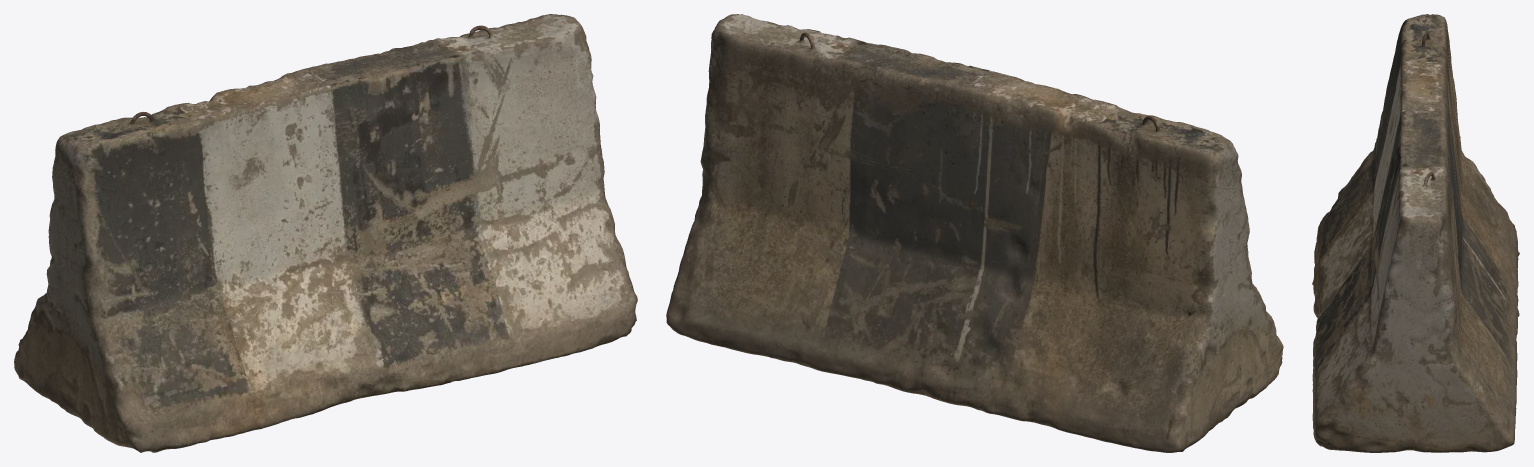
Rendered from concrete_road_barrier.glb.
3 renders of one model, left to right at view 1: azimuth 30°, elevation 25°; view 2: azimuth 150°, elevation 25°; view 3: azimuth 270°, elevation 25°, orthographic. The views are drawn at different scales.
Visible parts, largest first — view 1: concrete_road_barrier; view 2: concrete_road_barrier; view 3: concrete_road_barrier.
Part boxes in pixels (x1,y1,x2,y2): concrete_road_barrier: [14, 14, 637, 452]; concrete_road_barrier: [666, 14, 1283, 452]; concrete_road_barrier: [1312, 14, 1519, 452].
Bounding box in the file's own units: 1.55 × 0.831 × 0.6388.
Materials: 1 (1 with a texture image).
